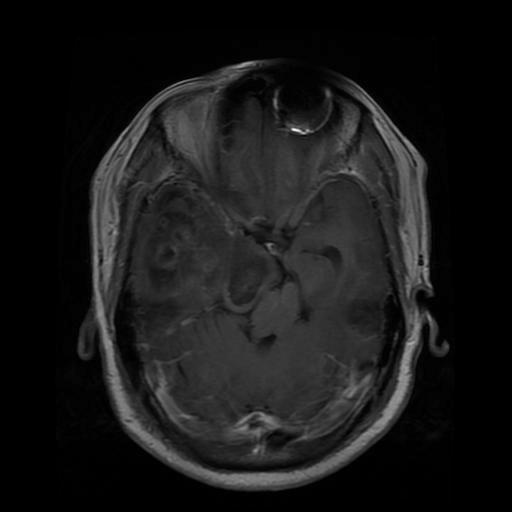Tumour-Glioma: (140, 197, 256, 315)
